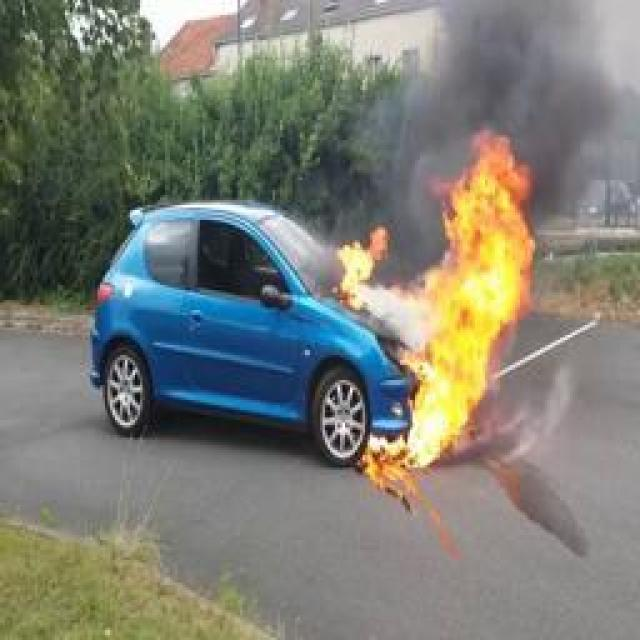Fire: (339, 130, 539, 475)
